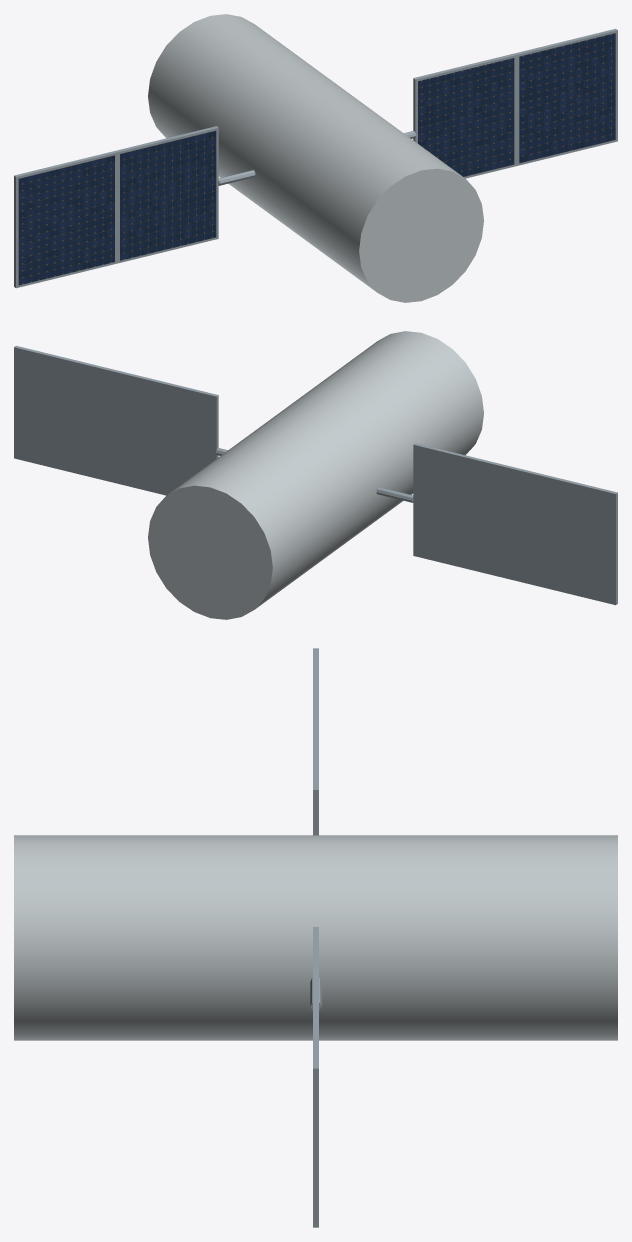
Rendered from ref-resurs-p-39186.glb.
3 renders of one model, top to bottom at view 1: azimuth 30°, elevation 25°; view 2: azimuth 150°, elevation 25°; view 3: azimuth 270°, elevation 25°, orthographic. The views are drawn at different scales.
Visible parts, largest first — view 1: Spacecraft body, Photovoltaic laminates (×4), Array frame (×4); view 2: Spacecraft body, Array frame (×4); view 3: Spacecraft body, Array frame.
Boxes of the visible parts, x1,y1,x2,y2 form: Spacecraft body: (148,14,483,302); Photovoltaic laminates (×4): (18,33,615,285); Array frame (×4): (14,28,617,288); Spacecraft body: (148,331,483,619); Array frame (×4): (14,345,617,605); Spacecraft body: (14,835,617,1040); Array frame: (313,997,318,1227).
Size of the model in its own units: 13 by 2.7 by 7.9.
3 materials, 1 textured.
